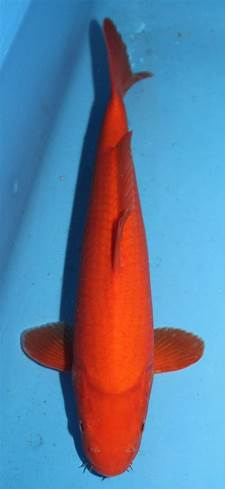red: (20, 17, 207, 477)
